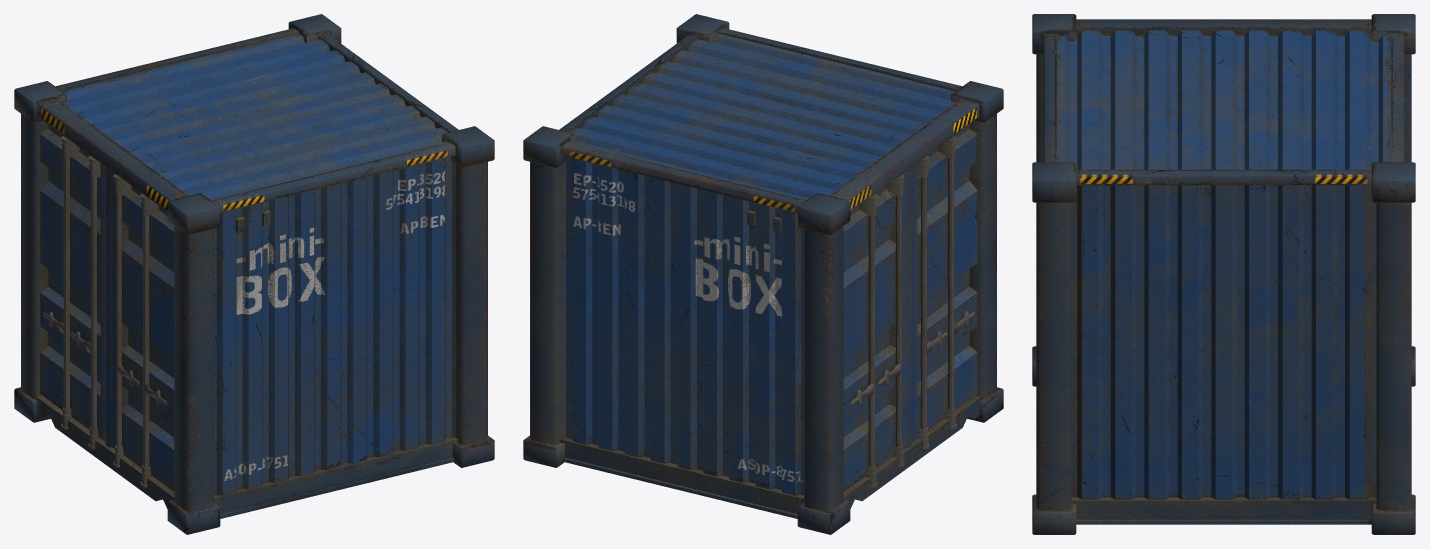
File: Container.fbx
3 views of the same model, side by side, from view 1: azimuth 30°, elevation 25°; view 2: azimuth 150°, elevation 25°; view 3: azimuth 270°, elevation 25° (orthographic). The views are drawn at different scales.
Parts seen in each view (by area): view 1: Container; view 2: Container; view 3: Container.
Boxes of the visible parts, <box> form: Container: <box>14,14,494,534</box>; Container: <box>523,14,1003,534</box>; Container: <box>1032,14,1415,534</box>.
Size of the model in its own units: 12295 by 12217 by 11942.
